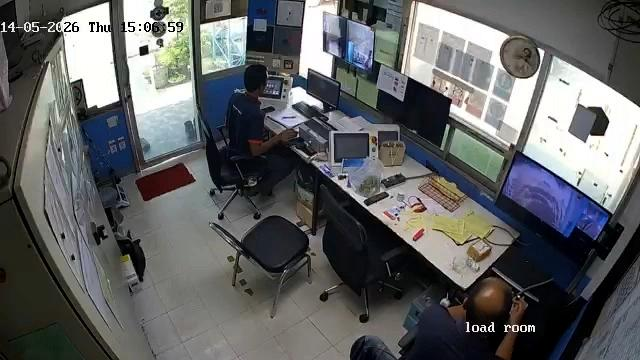Head: (461, 276, 516, 336), (242, 64, 272, 99)
People: (411, 275, 530, 360), (225, 63, 299, 196)
Phone: (261, 105, 276, 114)
